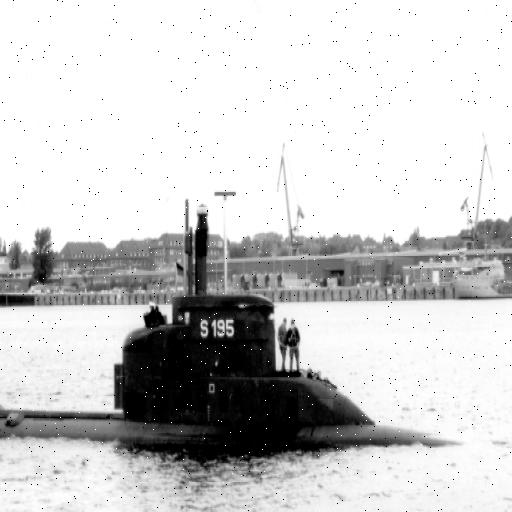submarine: (1, 293, 464, 459)
